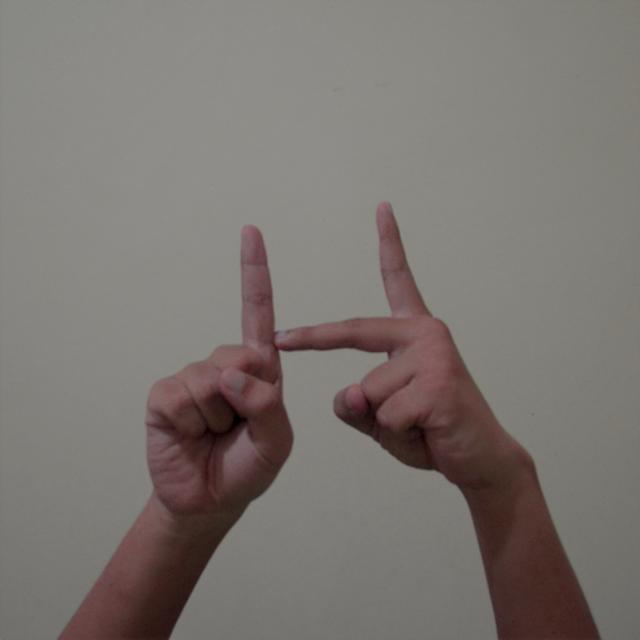H: (132, 191, 536, 528)
